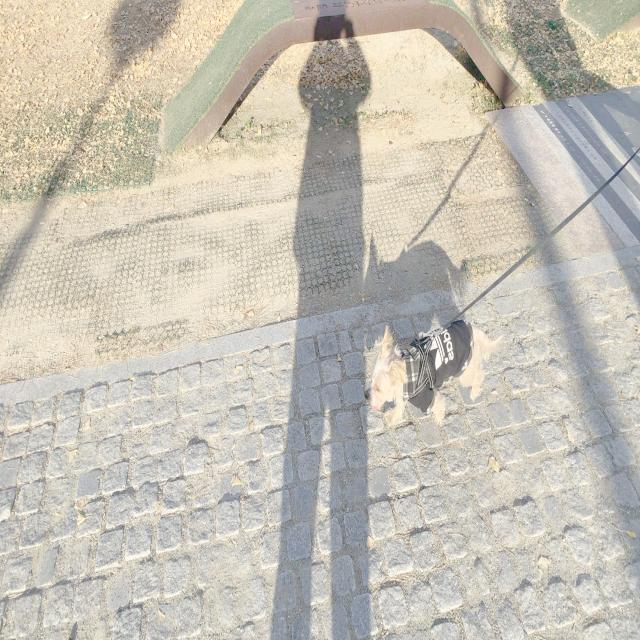Dog: (360, 315, 509, 435)
